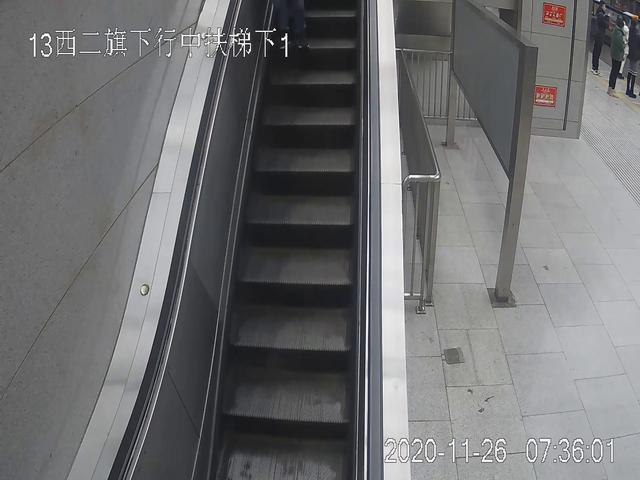person: (607, 19, 624, 98), (590, 2, 607, 75), (625, 23, 640, 99)
